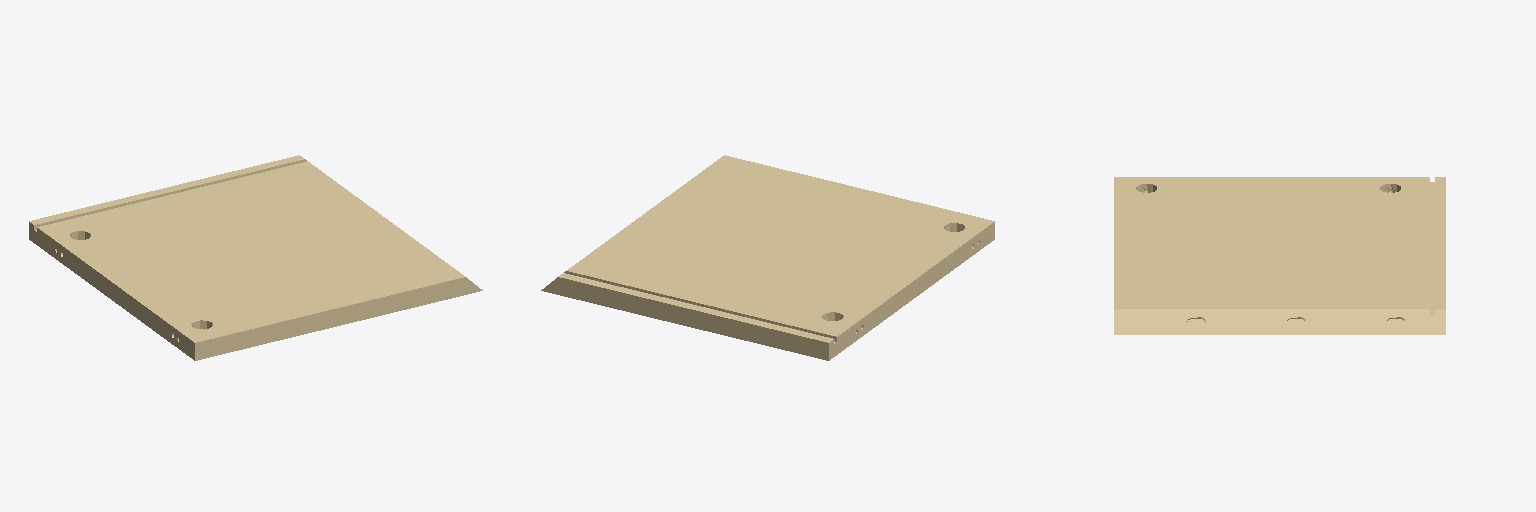
Rendered from side_left.obj.
The picture shows the model from 3 angles: view 1: azimuth 30°, elevation 25°; view 2: azimuth 150°, elevation 25°; view 3: azimuth 270°, elevation 25°; orthographic projection.
Visible parts, largest first — view 1: 1; view 2: 1; view 3: 1.
Part boxes in pixels (left/top/right/bottom): 1: left=29, top=155, right=482, bottom=360; 1: left=541, top=155, right=994, bottom=360; 1: left=1114, top=177, right=1445, bottom=334.
Bounding box in the file's own units: 300 × 18 × 300.